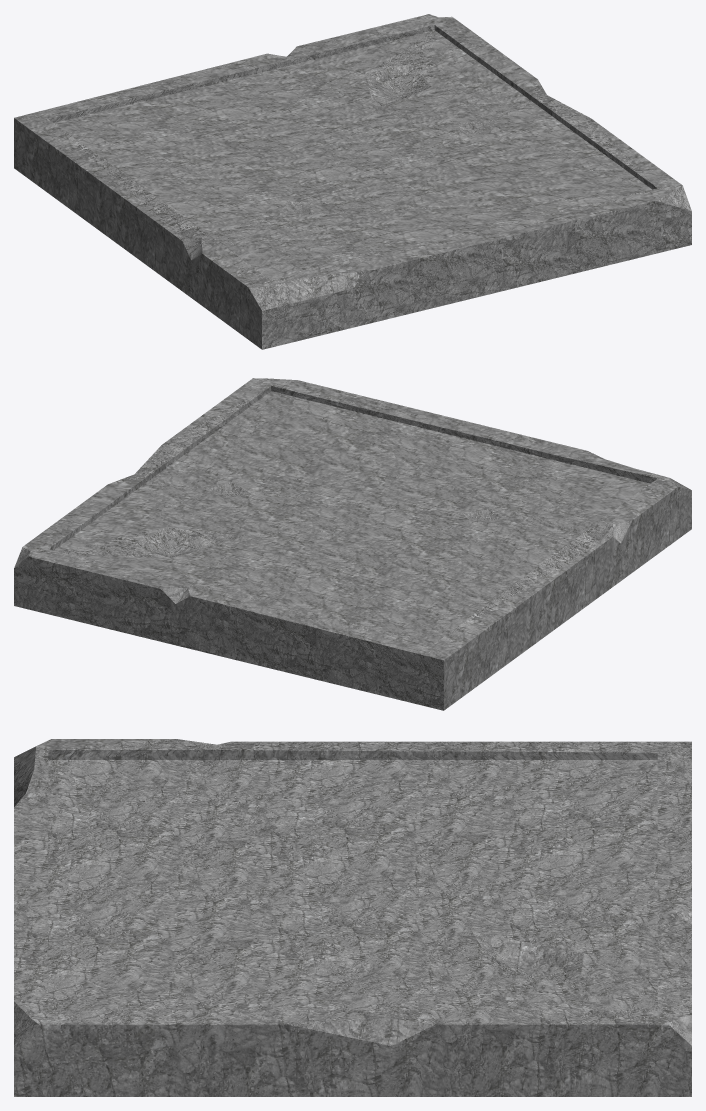
File: materials_3_base_6.fbx
3 renders of one model, top to bottom at view 1: azimuth 30°, elevation 25°; view 2: azimuth 150°, elevation 25°; view 3: azimuth 270°, elevation 25°, orthographic. The views are drawn at different scales.
Parts seen in each view (by area): view 1: materials_3_base_6; view 2: materials_3_base_6; view 3: materials_3_base_6.
Part boxes in pixels (x1,y1,x2,y2): materials_3_base_6: [14, 14, 691, 349]; materials_3_base_6: [14, 378, 691, 710]; materials_3_base_6: [14, 739, 691, 1096].
Bounding box in the file's own units: 515 × 62.7 × 515.
